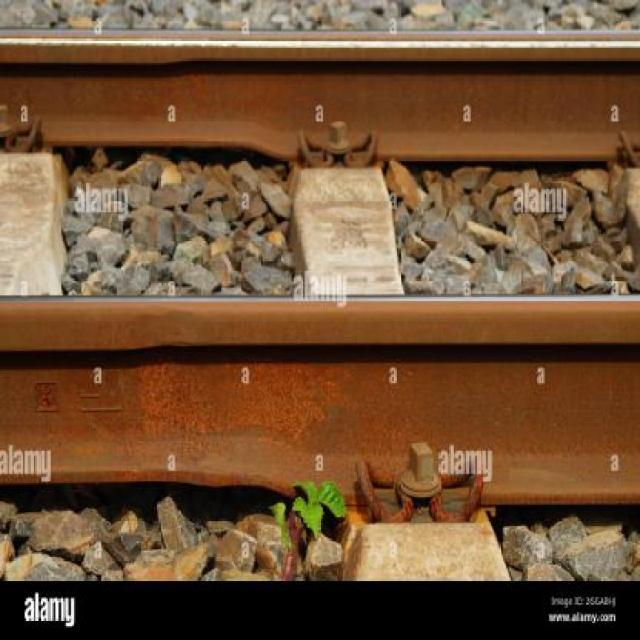defective: (0, 24, 638, 517)
